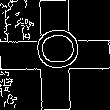O_W: (29, 33, 81, 77)
